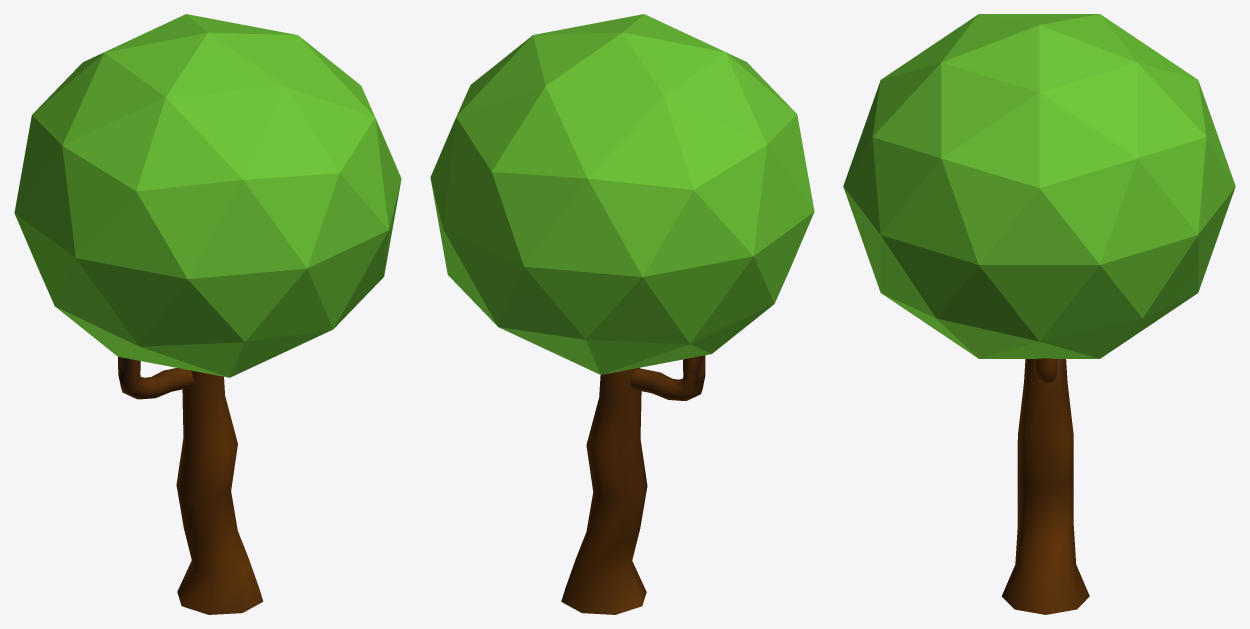
File: arvore.fbx
3 views of the same model, side by side, from view 1: azimuth 30°, elevation 25°; view 2: azimuth 150°, elevation 25°; view 3: azimuth 270°, elevation 25° (orthographic).
Parts seen in each view (by area): view 1: arvore; view 2: arvore; view 3: arvore.
Part boxes in pixels (x1,y1,x2,y2): arvore: [14, 14, 401, 614]; arvore: [430, 14, 814, 614]; arvore: [843, 14, 1235, 614].
Size of the model in its own units: 616 by 1031 by 650.
